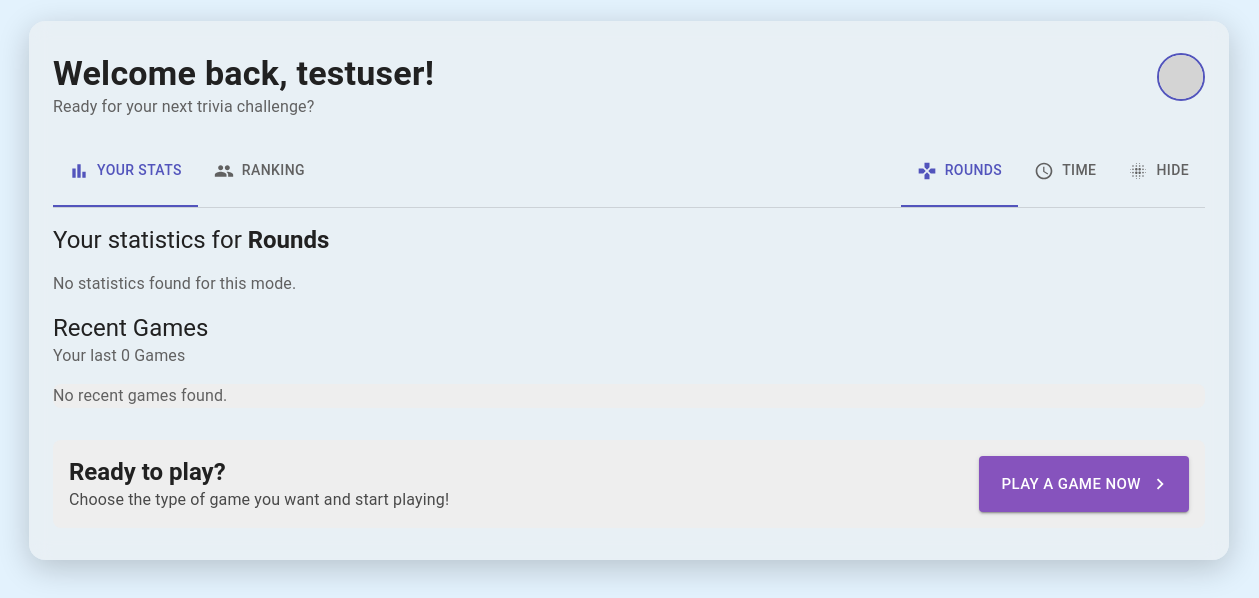
Test: Home component › should fetch and display user stats
// Navigate to the rankings tab
Click the tab with test id "ranking". click: {"x": 259, "y": 171}
box: [198,135,321,207]
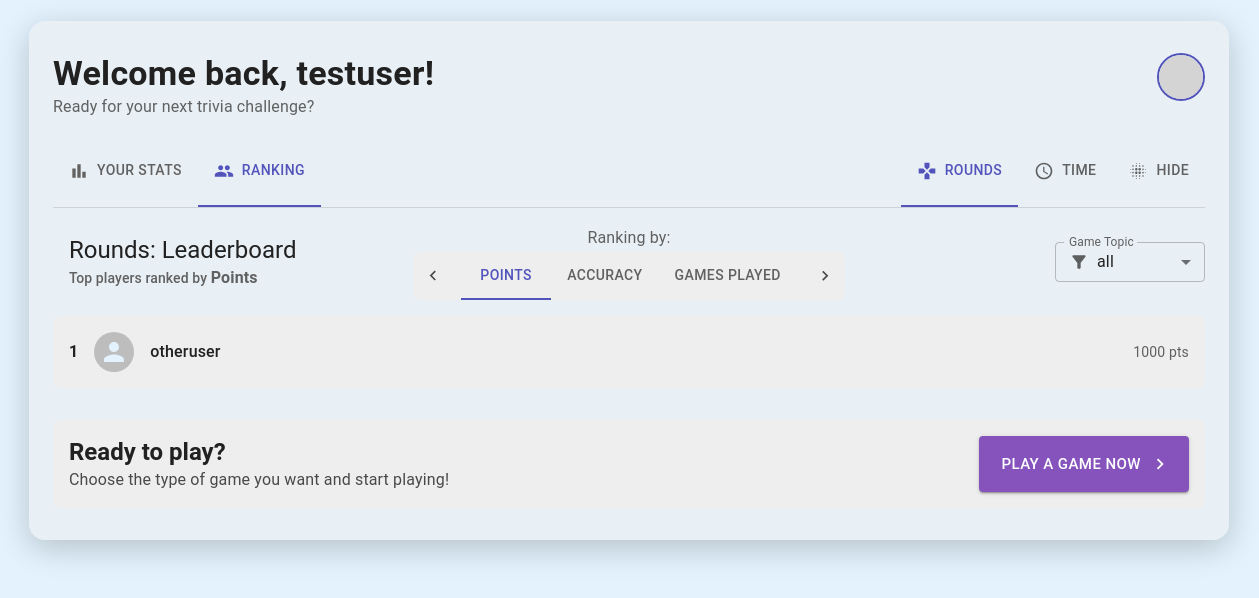
Expected: the text "otheruser" is shown, [150,340,221,364]
Expected: the text "1000 pts" is shown, [1133,342,1189,362]
// Find the accuracy tab specifically among all tabs
Click the tab "Accuracy". click: {"x": 605, "y": 276}
box: [551,252,658,300]
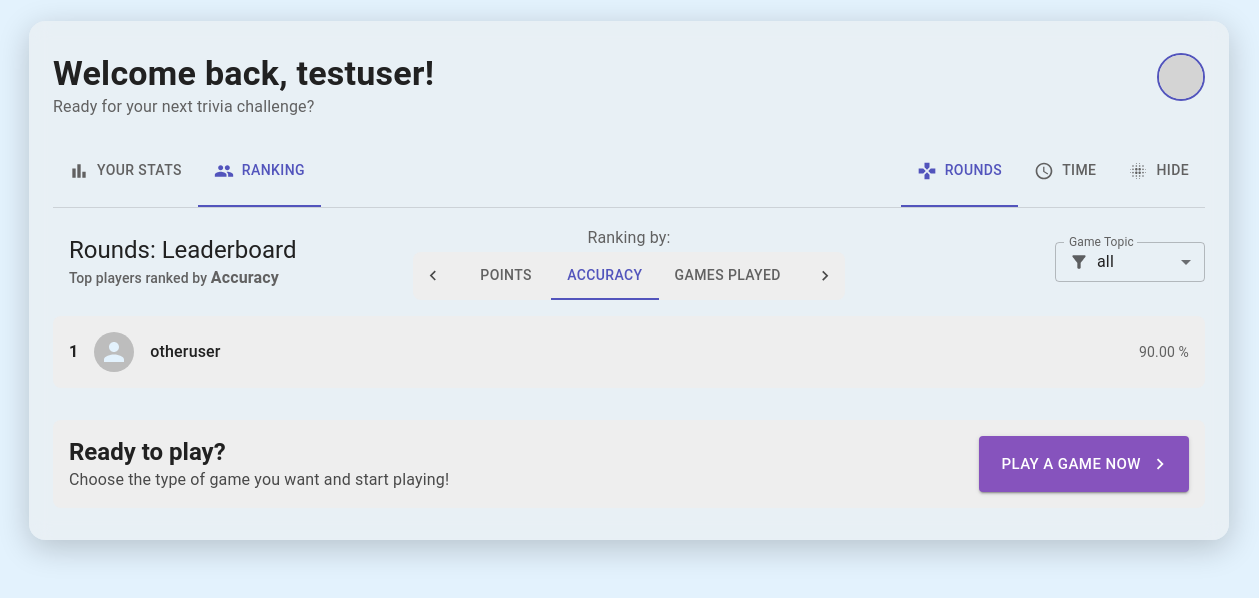
Expected: the text "90.00 %" is shown, [1139,342,1189,362]
// Find the gamesPlayed tab specifically among all tabs
Click the tab "Games Played". click: {"x": 728, "y": 276}
box: [658,252,797,300]
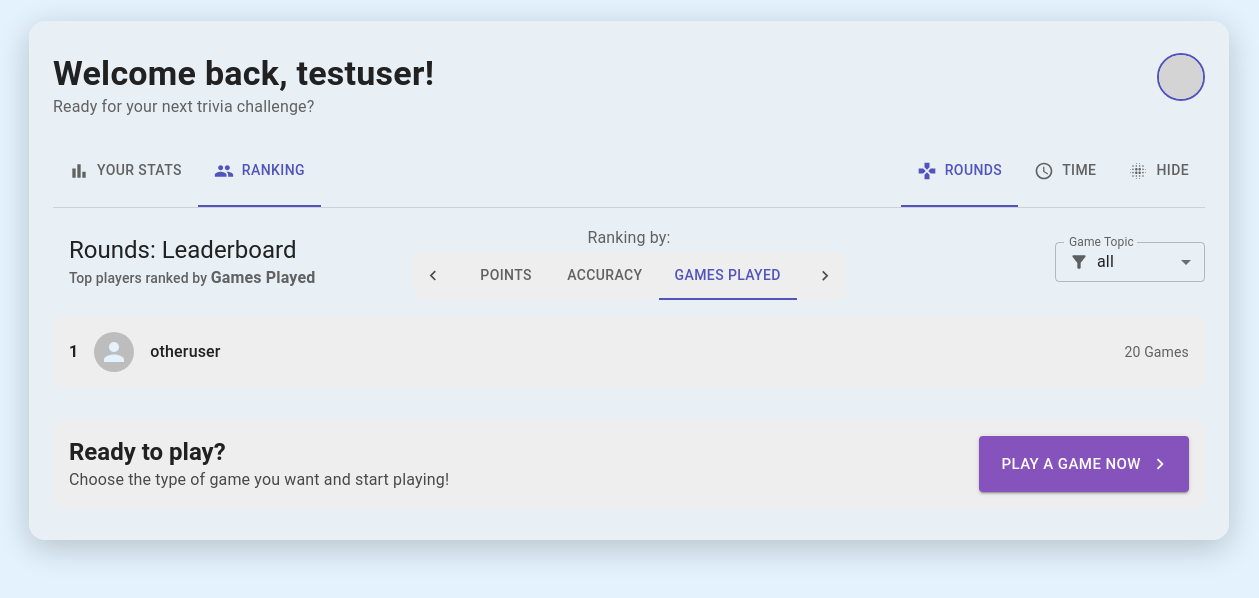
Expected: the text "20 Games" is shown, [1124,342,1189,362]
